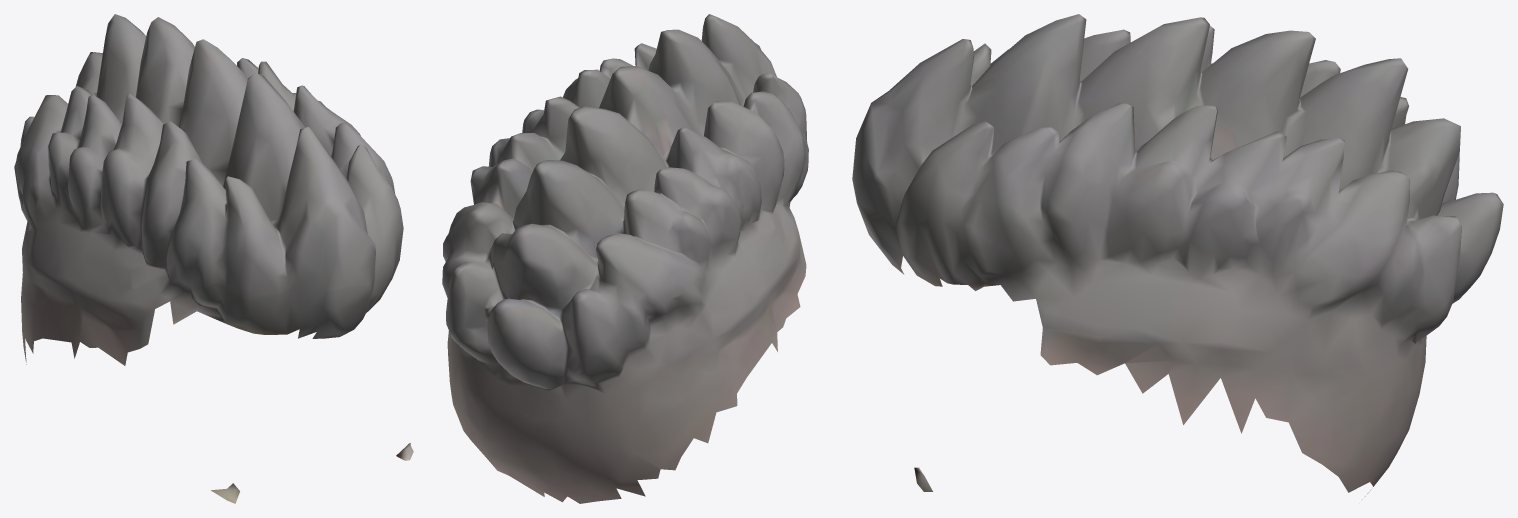
The model's file is hair-m-mohawk.glb.
3 renders of one model, left to right at view 1: azimuth 30°, elevation 25°; view 2: azimuth 150°, elevation 25°; view 3: azimuth 270°, elevation 25°, orthographic. The views are drawn at different scales.
Visible parts, largest first — view 1: hair-m-mohawk; view 2: hair-m-mohawk; view 3: hair-m-mohawk.
Boxes of the visible parts, box(x1,y1,x2,y2) form: hair-m-mohawk: box(14, 14, 413, 503); hair-m-mohawk: box(442, 14, 808, 503); hair-m-mohawk: box(852, 14, 1503, 499).
Size of the model in its own units: 0.6742 by 0.8883 by 1.1.
1 material, 1 textured.
